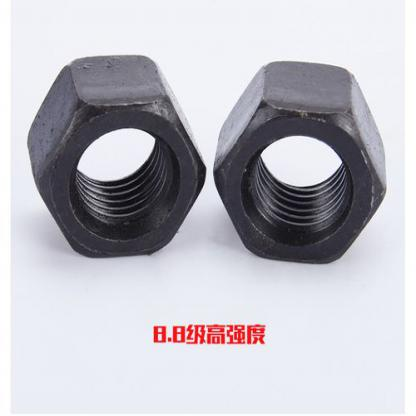FOD: (25, 52, 207, 261), (213, 59, 389, 268)
